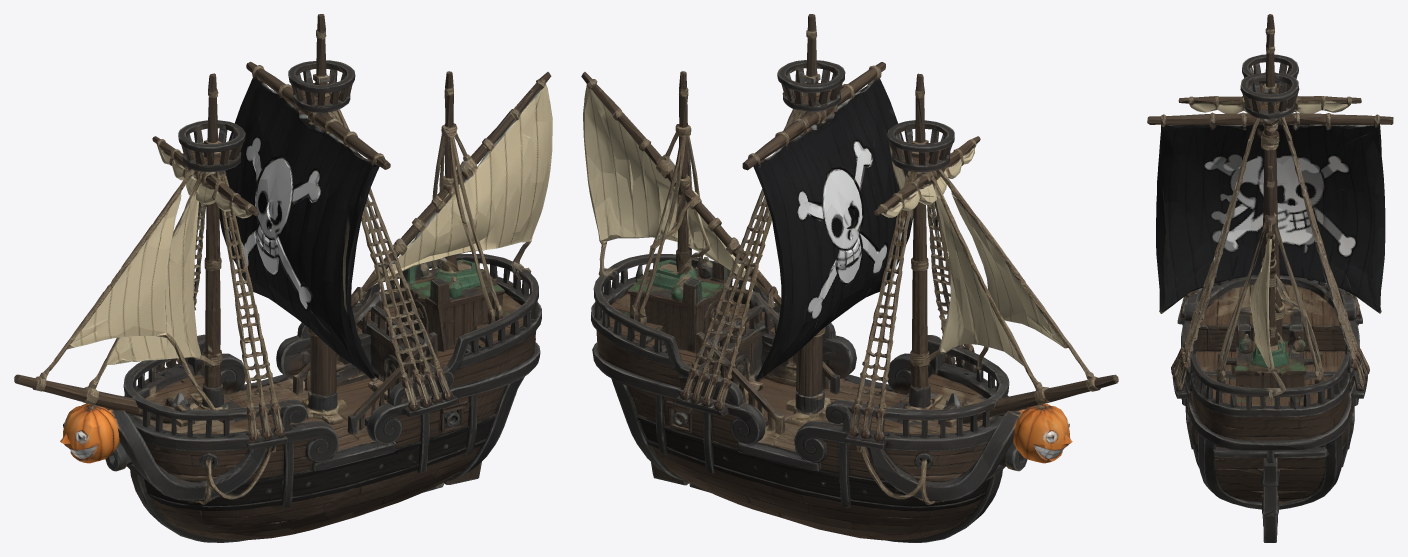
File: spade_pirates.glb
3 views of the same model, side by side, from view 1: azimuth 30°, elevation 25°; view 2: azimuth 150°, elevation 25°; view 3: azimuth 270°, elevation 25° (orthographic). The views are drawn at different scales.
Size of the model in its own units: 1.9 by 1.71 by 0.8502.
Materials: 1 (1 with a texture image).
